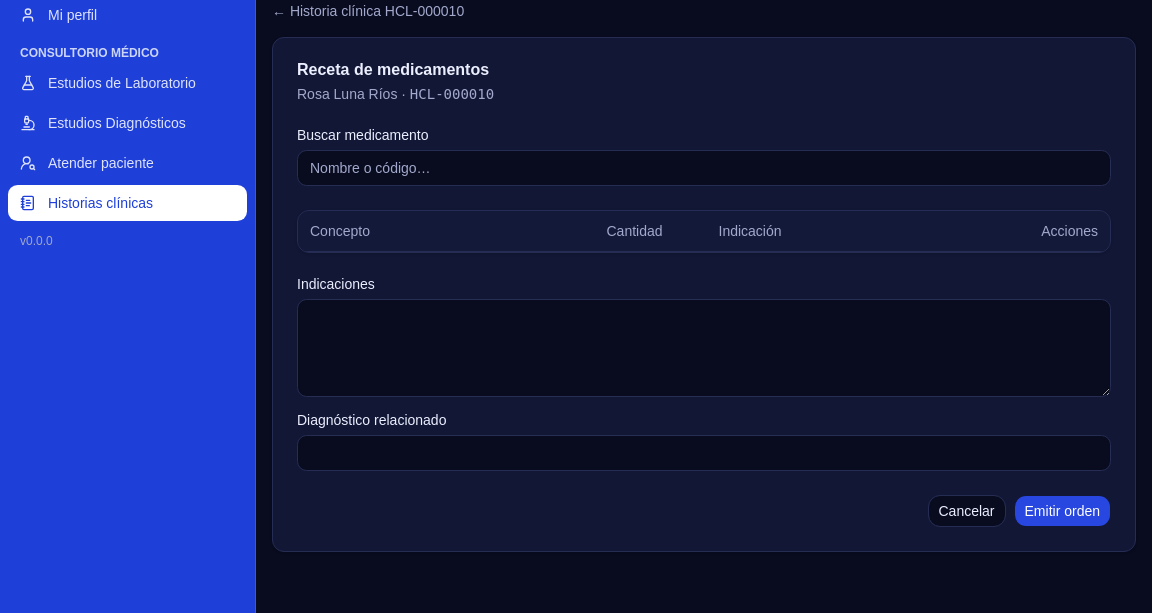
receta de medicamentos (F9-CLINIC-WEB-18) › un 422 del API se muestra con su motivo, no con el genérico
The image size is (1152, 613).
Type "parac" into the search field labelled "Buscar medicamento".
click(704, 168); type("parac")  # box [297, 150, 1111, 186]
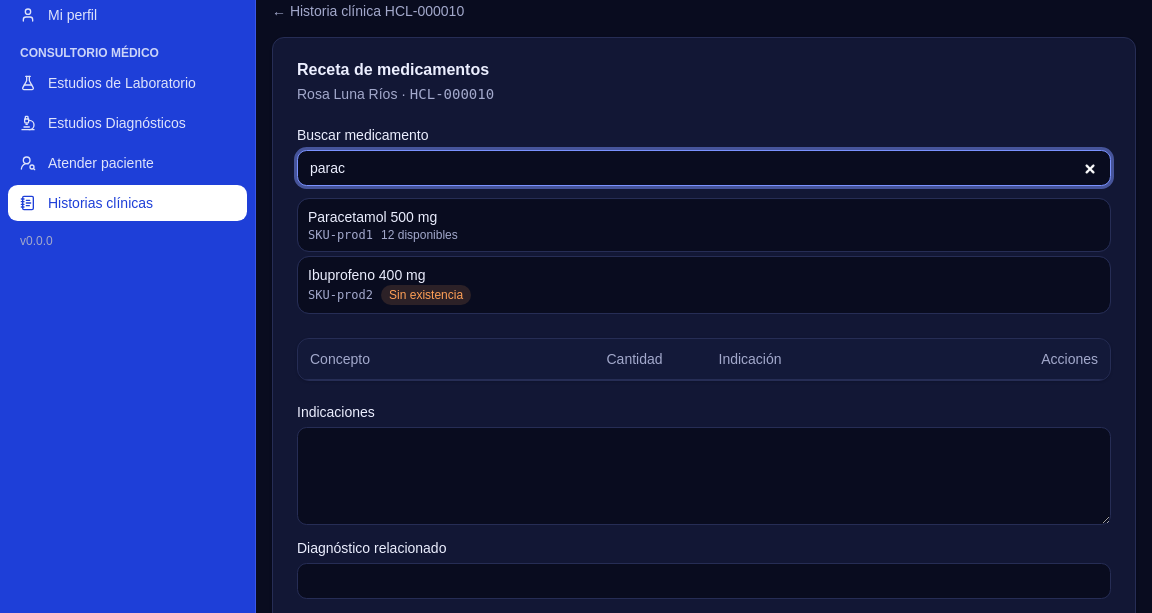
Click the button "Paracetamol 500 mg SKU-prod1 12 disponibles".
click(373, 217)  # box [297, 198, 1111, 252]
(page scrolled)
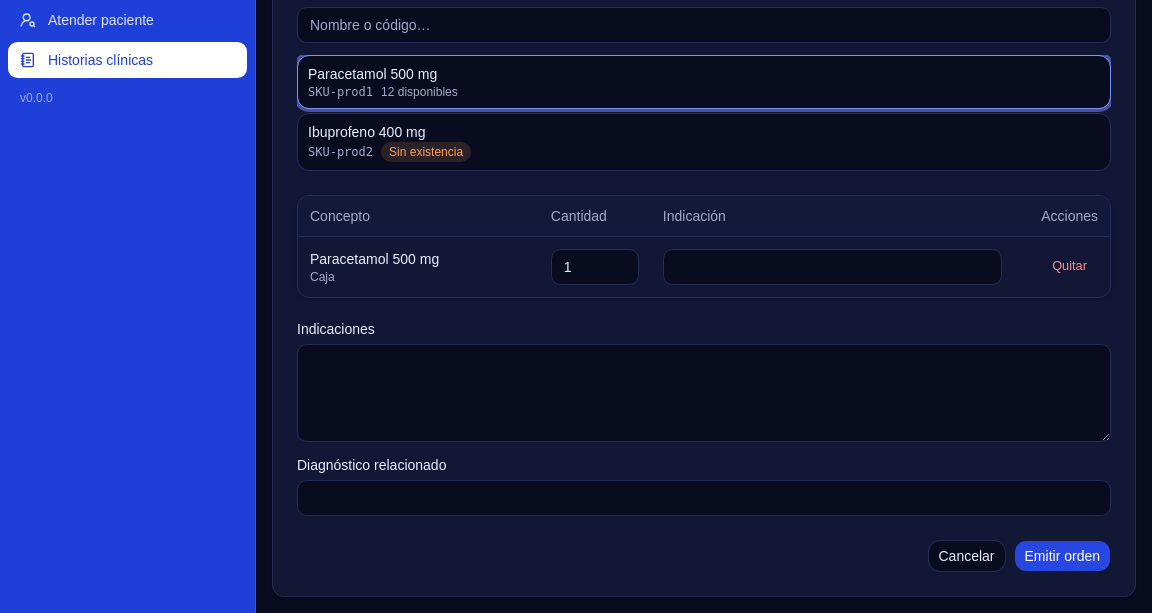
Click the button "Emitir orden".
click(1062, 556)  # box [1014, 540, 1111, 572]
(page scrolled)
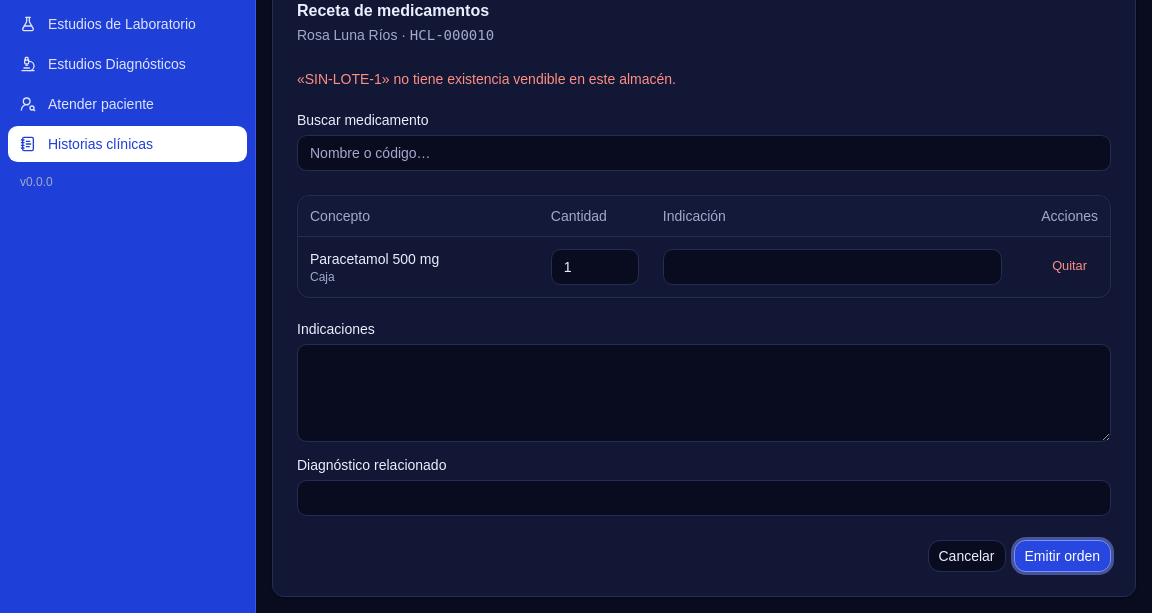
Expected: the message reads "«SIN-LOTE-1» no tiene existencia vendible en este almacén.", [297, 71, 676, 87]
